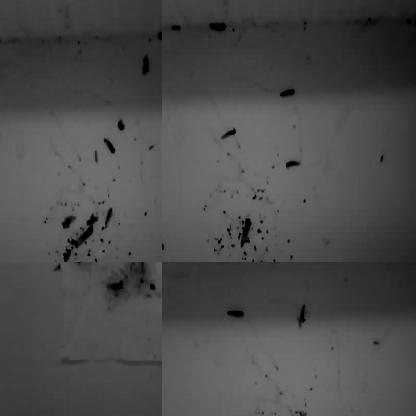PtecticusTenebrifer: (74, 226, 94, 248), (240, 216, 251, 248), (210, 20, 227, 34), (104, 137, 116, 156), (225, 308, 244, 320), (141, 52, 150, 75), (220, 129, 236, 141), (278, 88, 296, 98), (105, 207, 114, 226), (105, 282, 124, 291), (299, 303, 307, 324), (286, 160, 301, 170), (143, 262, 156, 272), (358, 262, 375, 269), (9, 262, 23, 269), (0, 37, 8, 47), (370, 262, 386, 267), (162, 242, 166, 259), (162, 56, 168, 66), (157, 30, 162, 40), (162, 262, 169, 269)
